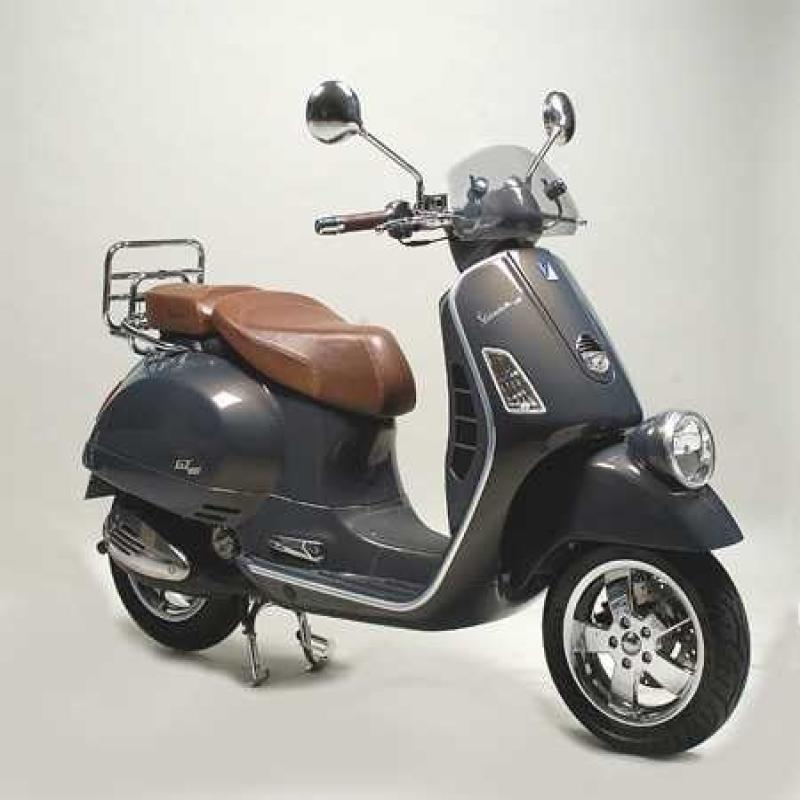bike: (111, 30, 740, 796)
